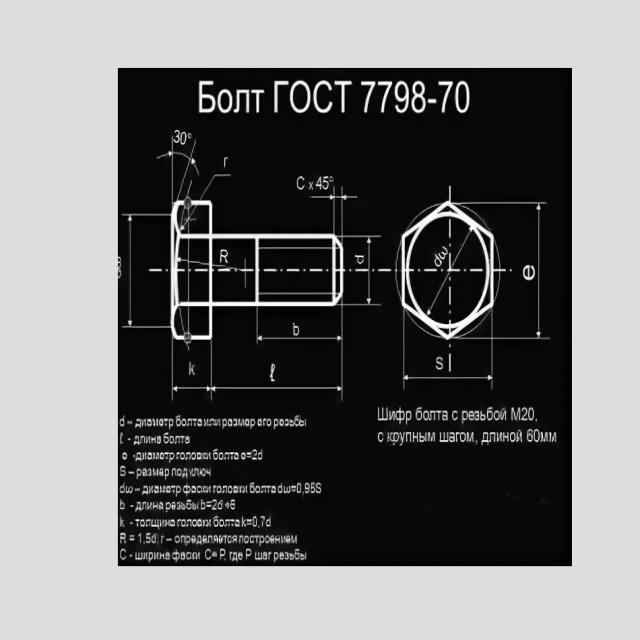marking_line: (170, 341, 346, 401), (210, 342, 344, 401), (501, 199, 548, 340), (120, 212, 170, 330), (156, 132, 232, 199), (401, 340, 495, 391), (255, 308, 346, 347), (502, 273, 551, 341), (166, 342, 214, 402), (344, 235, 383, 306), (310, 187, 358, 232), (493, 309, 552, 340), (480, 200, 548, 215), (427, 272, 448, 315), (452, 228, 473, 269), (201, 171, 232, 198), (402, 317, 409, 395), (487, 316, 494, 393), (181, 205, 196, 231)
numeric: (393, 79, 410, 113), (436, 79, 453, 112), (376, 80, 392, 114), (359, 81, 376, 112), (455, 80, 470, 114), (412, 79, 426, 112), (219, 249, 229, 264), (323, 176, 330, 191), (180, 130, 187, 144), (316, 175, 322, 191), (260, 514, 266, 528), (174, 130, 180, 143), (304, 482, 310, 495), (230, 499, 236, 511), (223, 156, 228, 168), (213, 499, 218, 511), (146, 532, 151, 544), (253, 450, 258, 461), (297, 483, 302, 494), (310, 483, 315, 494), (252, 516, 257, 527), (138, 532, 142, 544), (218, 500, 223, 509)
special_symbol: (308, 182, 314, 190), (329, 175, 334, 183), (188, 133, 192, 140)
